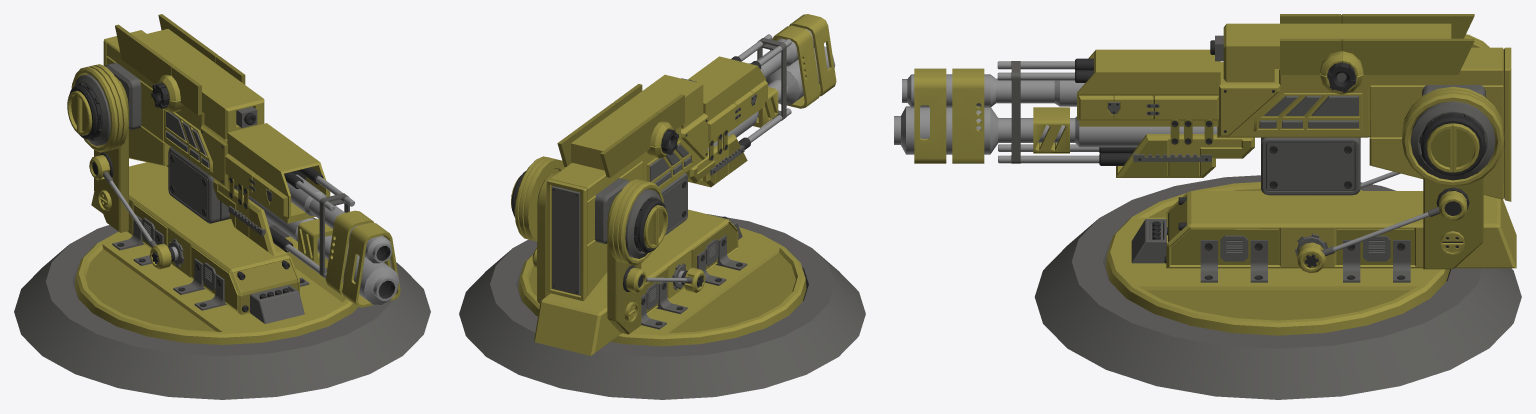
File: RailgunTowerFBX.fbx
3 renders of one model, left to right at view 1: azimuth 30°, elevation 25°; view 2: azimuth 150°, elevation 25°; view 3: azimuth 270°, elevation 25°, orthographic. The views are drawn at different scales.
Parts seen in each view (by area): view 1: pCylinder22, pCylinder23, pCube1, pCube9, pCube7, pCube5, polySurface28, pCube6, pCylinder3, Turret_Detail_pCube13, polySurface55, polySurface53 (+20 smaller); view 2: pCylinder22, pCylinder23, pCube5, pCube1, pCube7, pCube9, polySurface53, polySurface28, polySurface55, Turret_Detail_pCube22, Turret_Detail_pCube13, pCylinder3 (+17 smaller); view 3: pCylinder22, pCylinder23, pCube1, pCube5, pCube9, polySurface28, pCube7, pCube6, pCylinder3, pCube15, pCube10, polySurface55 (+25 smaller).
Boxes of the visible parts, x1,y1,x2,y2 form: pCylinder22: (14, 217, 430, 399); pCylinder23: (75, 231, 357, 344); pCube1: (91, 162, 299, 315); pCube9: (225, 123, 330, 223); pCube7: (135, 29, 264, 139); pCube5: (103, 30, 236, 189); polySurface28: (115, 14, 245, 115); pCube6: (168, 147, 230, 223); pCylinder3: (235, 187, 399, 304); Turret_Detail_pCube13: (342, 222, 400, 307); polySurface55: (94, 76, 168, 232); polySurface53: (71, 64, 128, 152); pCylinder22: (459, 214, 865, 399); pCylinder23: (518, 227, 806, 346); pCube5: (546, 113, 707, 301); pCube1: (534, 209, 738, 355); pCube7: (571, 74, 703, 170); pCube9: (688, 56, 767, 147); polySurface53: (514, 156, 663, 265); polySurface28: (557, 84, 684, 177); polySurface55: (537, 172, 641, 334); Turret_Detail_pCube22: (766, 25, 820, 108); Turret_Detail_pCube13: (789, 14, 836, 96); pCylinder3: (708, 46, 835, 151); pCylinder22: (1034, 175, 1521, 399); pCylinder23: (1106, 182, 1449, 335); pCube1: (1166, 191, 1516, 268); pCube5: (1217, 47, 1511, 201); pCube9: (1077, 49, 1220, 126); polySurface28: (1280, 14, 1474, 74); pCube7: (1223, 23, 1451, 82); pCube6: (1261, 137, 1360, 195); pCylinder3: (894, 106, 1217, 154); pCube15: (1253, 93, 1362, 131); pCube10: (1116, 134, 1254, 177); polySurface55: (1423, 178, 1483, 269).
Bounding box in the file's own units: 39.72 × 24.24 × 51.18.
